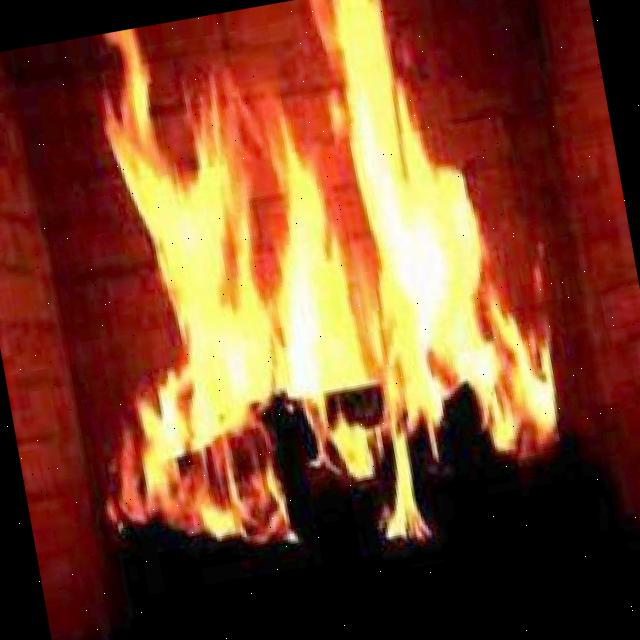fire: (109, 16, 556, 519)
